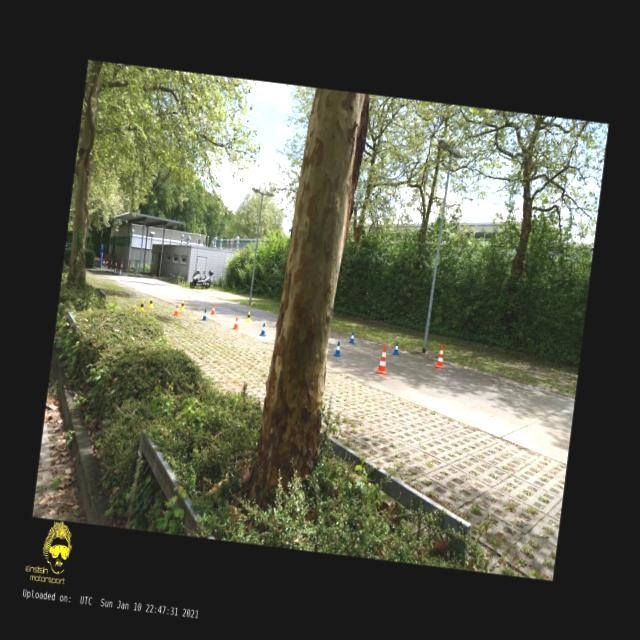blue_cone: (333, 341, 341, 356), (392, 340, 400, 354), (259, 322, 267, 336), (348, 332, 355, 344), (202, 308, 208, 320)
large_orange_cone: (375, 344, 389, 375), (435, 344, 446, 368)
orange_cone: (232, 316, 239, 328), (173, 304, 179, 316), (210, 304, 216, 314)
yellow_cone: (244, 310, 252, 322), (148, 296, 154, 308), (180, 300, 186, 310), (140, 300, 144, 310)
